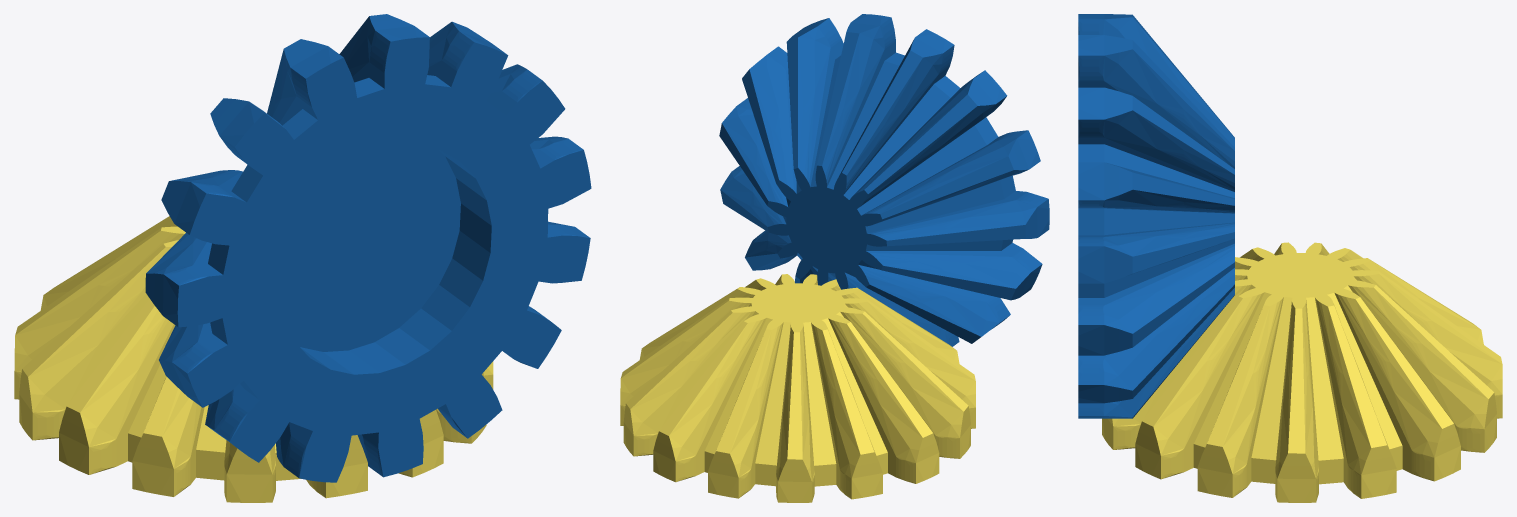
File: GearConic.obj
The picture shows the model from 3 angles, left to right: view 1: azimuth 30°, elevation 25°; view 2: azimuth 150°, elevation 25°; view 3: azimuth 270°, elevation 25°; orthographic projection. The views are drawn at different scales.
Parts seen in each view (by area): view 1: pinion001, gear004; view 2: pinion001, gear004; view 3: gear004, pinion001.
Boxes of the visible parts, box(x1,y1,x2,y2) form: pinion001: box(145, 14, 591, 482); gear004: box(14, 216, 493, 502); pinion001: box(719, 14, 1049, 346); gear004: box(620, 274, 975, 502); gear004: box(1102, 242, 1502, 502); pinion001: box(1078, 14, 1234, 418).
Size of the model in its own units: 15.5 by 16.25 by 16.25.
